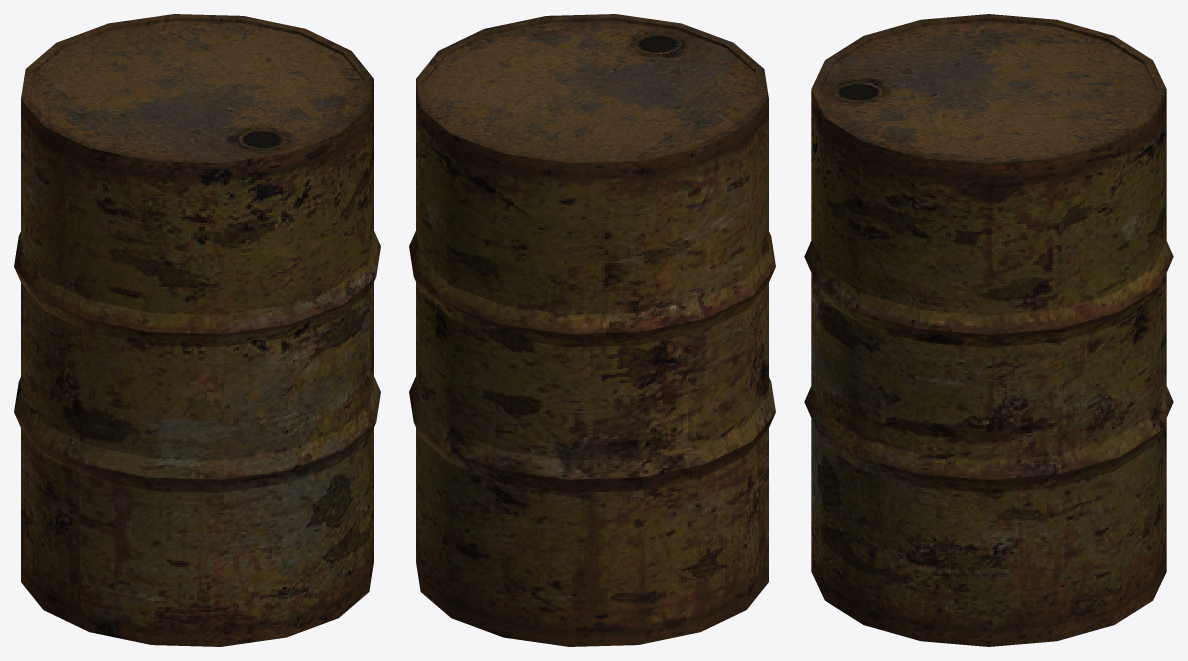
The model's file is metal_barrel_mp_1.glb.
3 views of the same model, side by side, from view 1: azimuth 30°, elevation 25°; view 2: azimuth 150°, elevation 25°; view 3: azimuth 270°, elevation 25° (orthographic).
Parts seen in each view (by area): view 1: metal_barrel_mp_1; view 2: metal_barrel_mp_1; view 3: metal_barrel_mp_1.
Boxes of the visible parts, <box> form: metal_barrel_mp_1: <box>14,14,380,646</box>; metal_barrel_mp_1: <box>409,14,775,646</box>; metal_barrel_mp_1: <box>804,14,1173,646</box>.
Bounding box in the file's own units: 0.7488 × 1.08 × 0.7488.
1 material, 1 textured.
